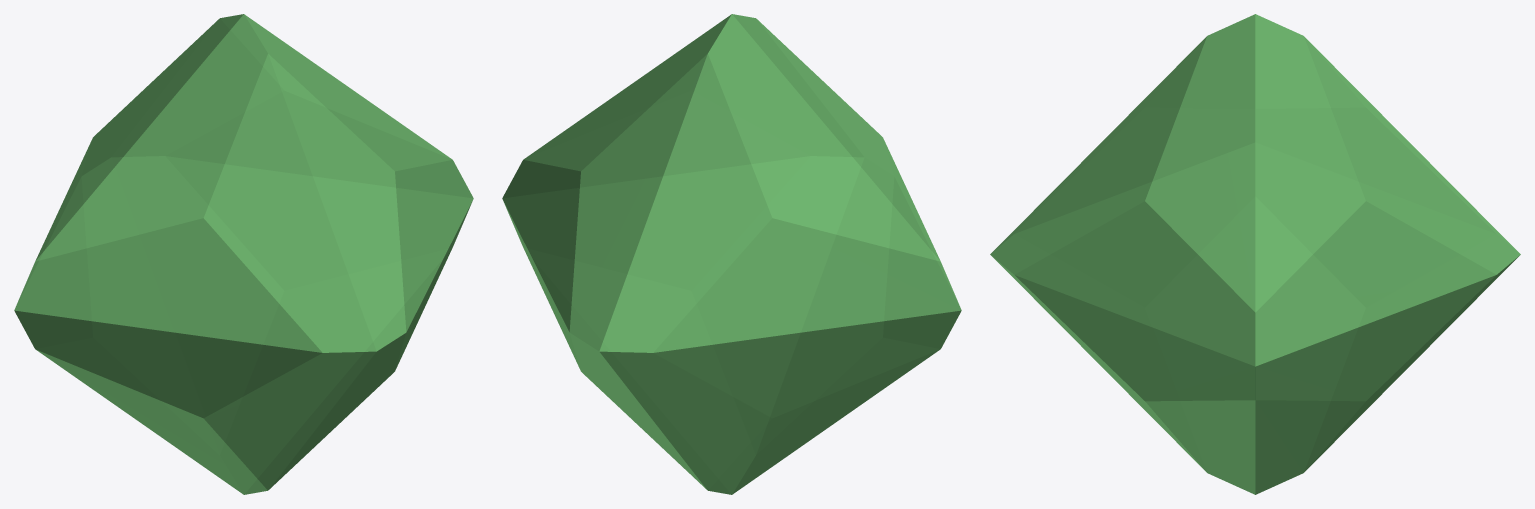
The model's file is DyakisDodecahedron.obj.
3 renders of one model, left to right at view 1: azimuth 30°, elevation 25°; view 2: azimuth 150°, elevation 25°; view 3: azimuth 270°, elevation 25°, orthographic.
Bounding box in the file's own units: 22 × 22 × 22.
